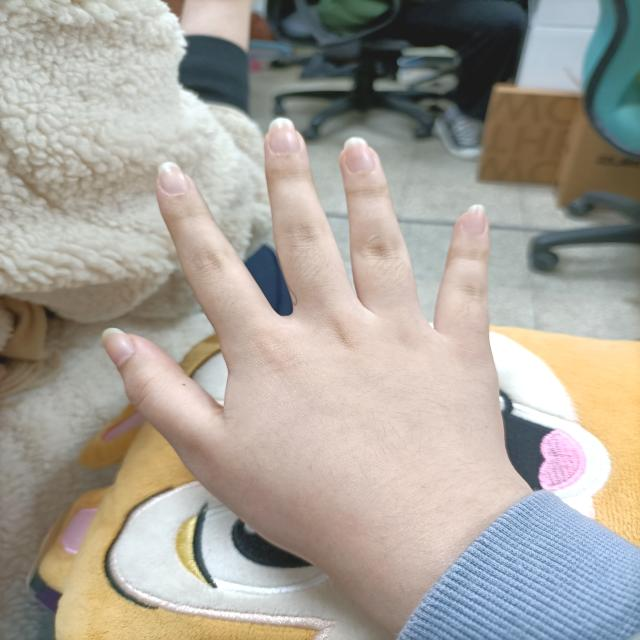no_glove: (92, 101, 545, 623)
